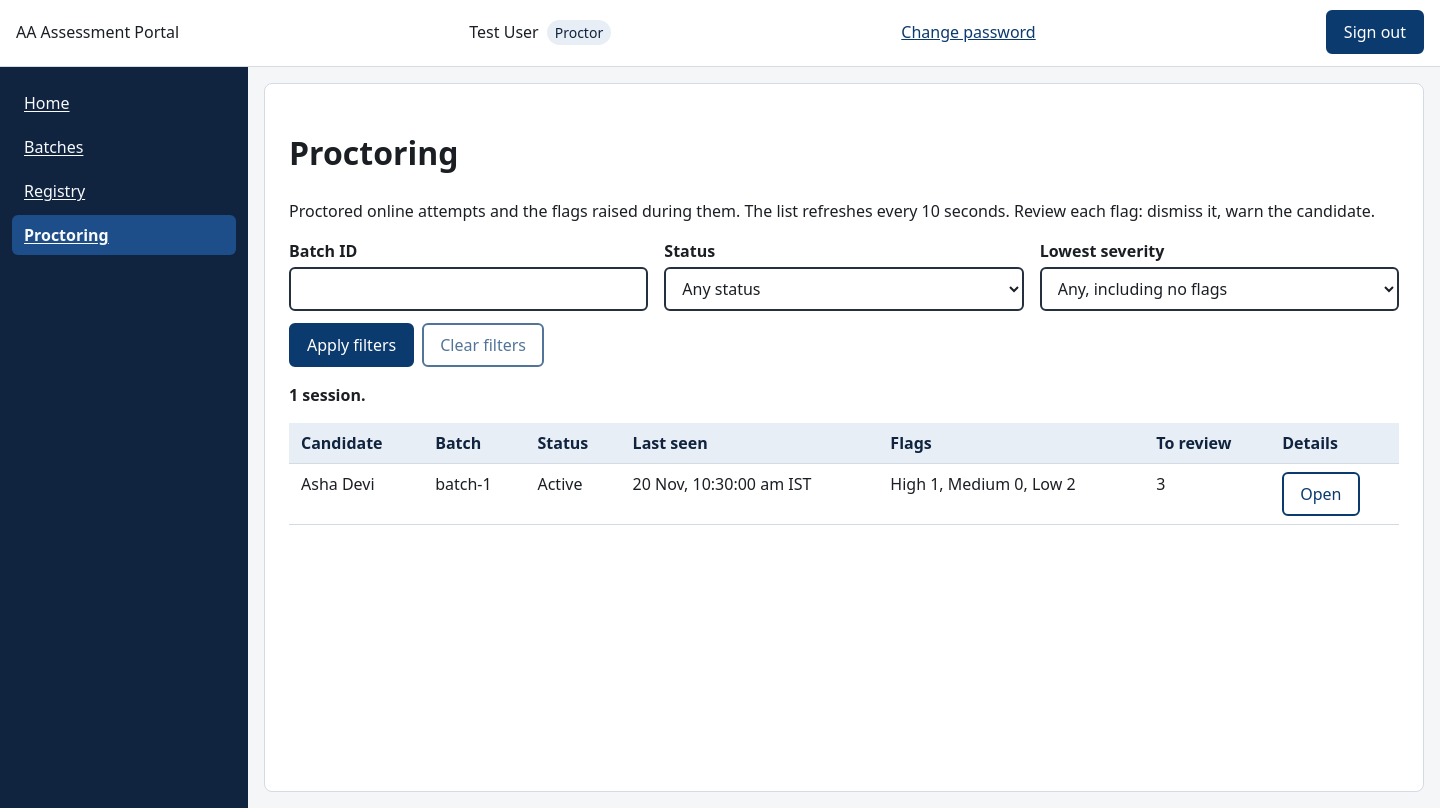
Scenario: says so when a flag has no image
The image size is (1440, 808).
Click the button with aria-label "Open session of Asha Devi" at (1321, 494), box [1282,472,1360,516]
(page scrolled)
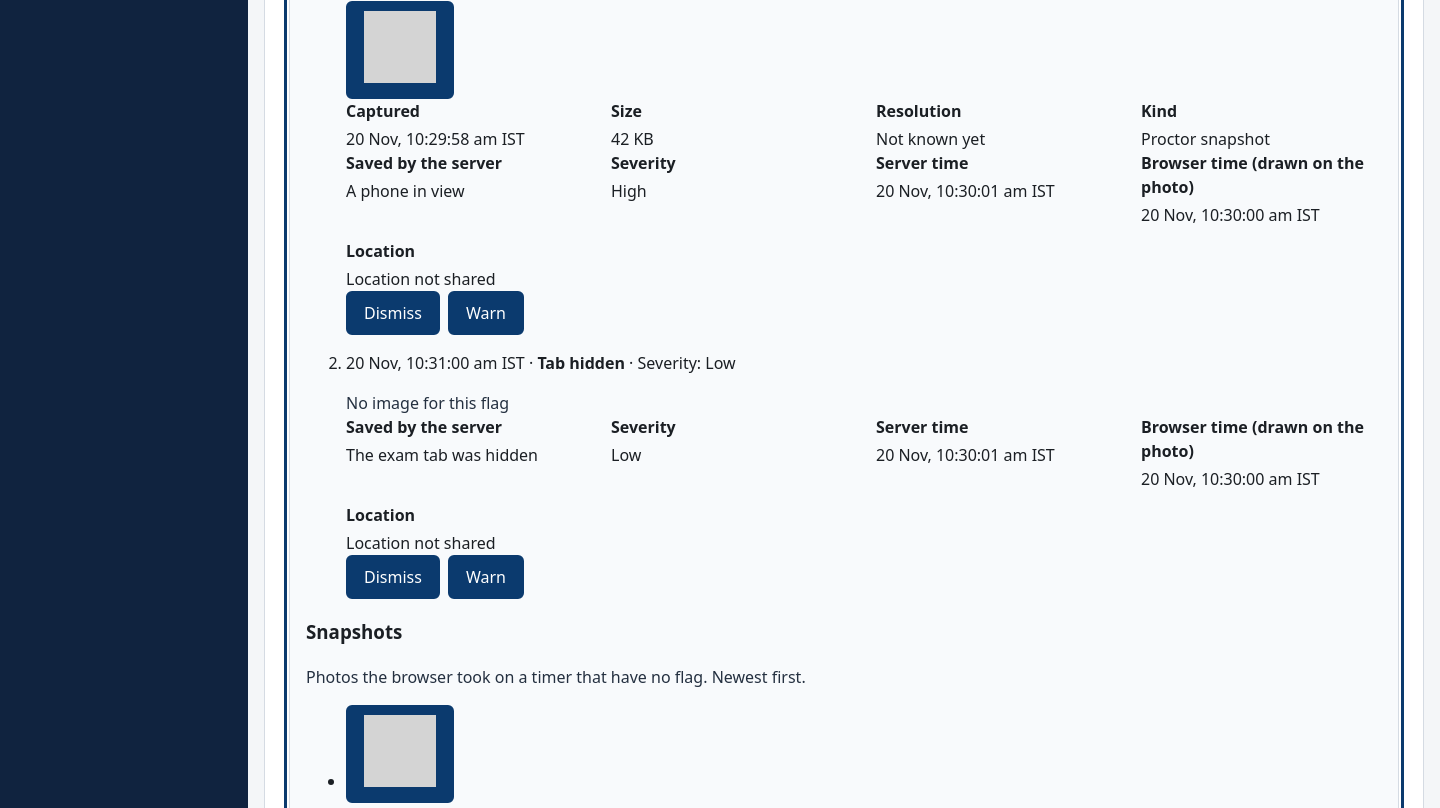
Now the text "No image for this flag" is shown, box [346,392,509,414]
